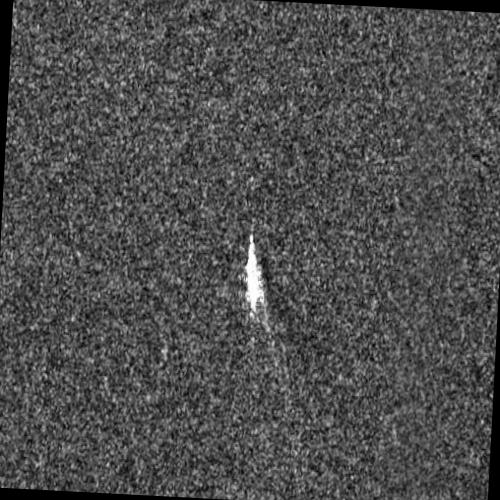ship: (244, 231, 261, 314)
